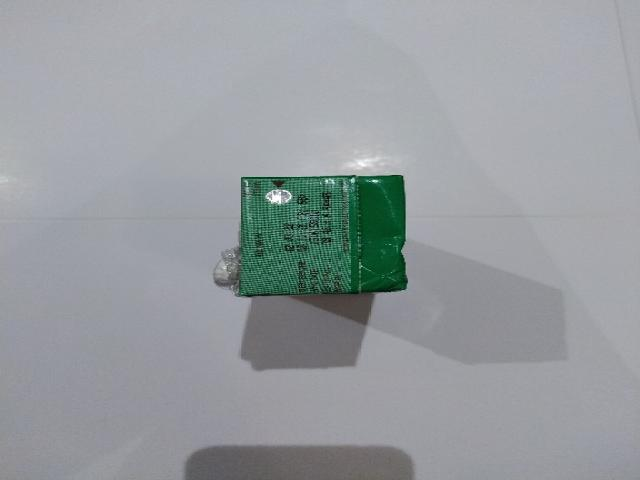drink_box: (209, 172, 411, 297)
